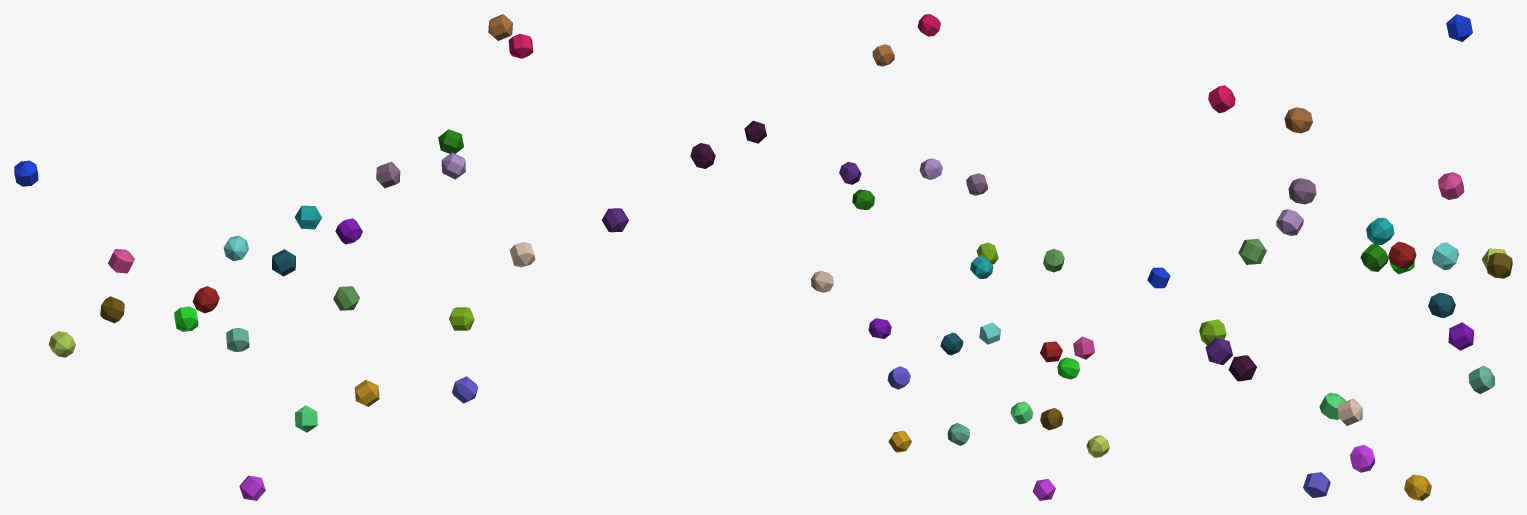
Rendered from fg-00040-bone.obj.
3 renders of one model, left to right at view 1: azimuth 30°, elevation 25°; view 2: azimuth 150°, elevation 25°; view 3: azimuth 270°, elevation 25°, orthographic. The views are drawn at different scales.
Size of the model in its own units: 0.2488 by 0.1861 by 0.1085.
